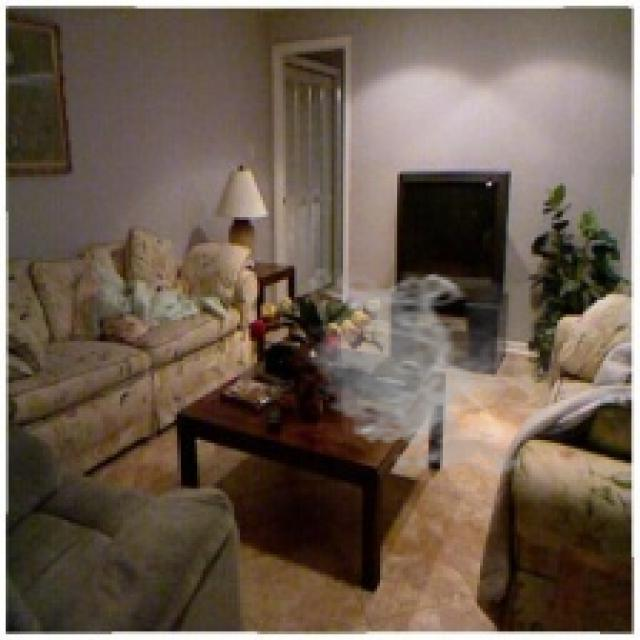Smoke: (300, 268, 554, 483)
